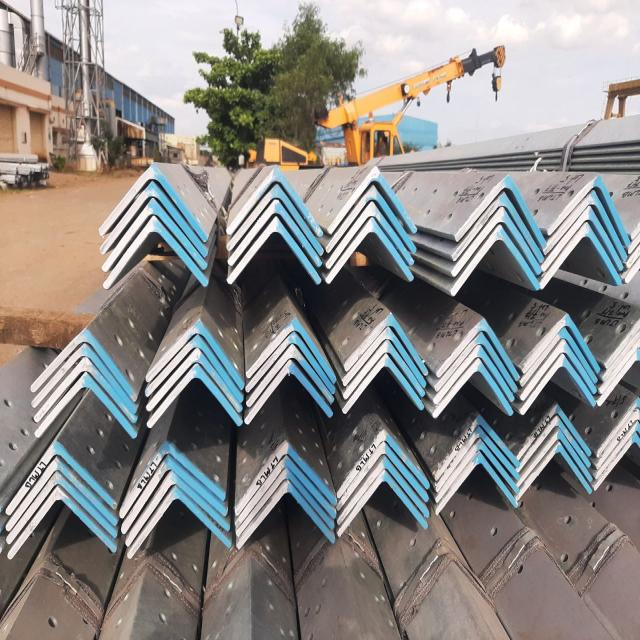metal-angles: (99, 163, 209, 242), (121, 456, 228, 535), (6, 439, 117, 515), (6, 470, 118, 545), (120, 441, 227, 519), (7, 457, 118, 532), (100, 181, 209, 257), (7, 486, 118, 560), (125, 470, 230, 548), (30, 327, 138, 402), (102, 197, 207, 273), (103, 215, 208, 290), (235, 441, 337, 517), (32, 343, 138, 415), (128, 486, 232, 559), (235, 455, 336, 528), (455, 173, 548, 249), (226, 184, 324, 256), (237, 481, 336, 551), (145, 321, 245, 390), (227, 165, 324, 236), (34, 373, 137, 439), (34, 357, 137, 423), (145, 334, 243, 403), (236, 469, 335, 537), (452, 192, 544, 264), (451, 223, 540, 297), (336, 429, 430, 499), (227, 216, 321, 285), (147, 364, 244, 430), (451, 207, 541, 278), (228, 200, 323, 267), (337, 457, 430, 525), (336, 442, 429, 510), (326, 185, 417, 254), (327, 165, 418, 234), (337, 469, 428, 538), (147, 347, 242, 413), (247, 316, 337, 384), (544, 190, 628, 262), (547, 174, 631, 246), (326, 201, 414, 269), (326, 217, 415, 283), (245, 359, 334, 425), (434, 414, 520, 481), (435, 426, 520, 493), (246, 344, 334, 408), (540, 222, 622, 290), (541, 205, 624, 272), (246, 332, 335, 394), (435, 451, 519, 516), (435, 439, 519, 503), (344, 313, 429, 376), (435, 319, 520, 381), (343, 352, 425, 414), (433, 344, 516, 405), (343, 339, 426, 400), (344, 326, 427, 387), (436, 332, 518, 393), (432, 358, 514, 418), (519, 339, 597, 402), (522, 313, 601, 374), (520, 326, 598, 387), (520, 353, 596, 415), (515, 443, 593, 502), (517, 429, 593, 488), (517, 403, 592, 461), (518, 416, 591, 473)
